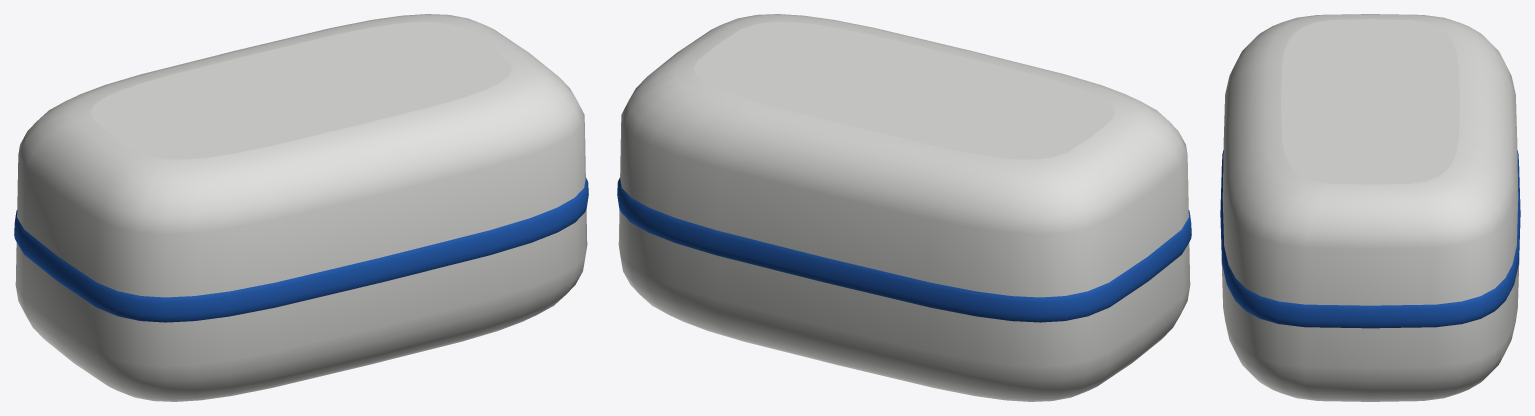
Rendered from algodao_pacote.dae.
The picture shows the model from 3 angles, left to right: view 1: azimuth 30°, elevation 25°; view 2: azimuth 150°, elevation 25°; view 3: azimuth 270°, elevation 25°; orthographic projection. The views are drawn at different scales.
Visible parts, largest first — view 1: Algodao - pacote (×2); view 2: Algodao - pacote (×2); view 3: Algodao - pacote (×2).
Part boxes in pixels (x1=…): Algodao - pacote (×2): x1=14, y1=14, x2=588, y2=401; Algodao - pacote (×2): x1=617, y1=14, x2=1191, y2=401; Algodao - pacote (×2): x1=1220, y1=14, x2=1520, y2=401.
Size of the model in its own units: 121 by 70.6 by 55.
